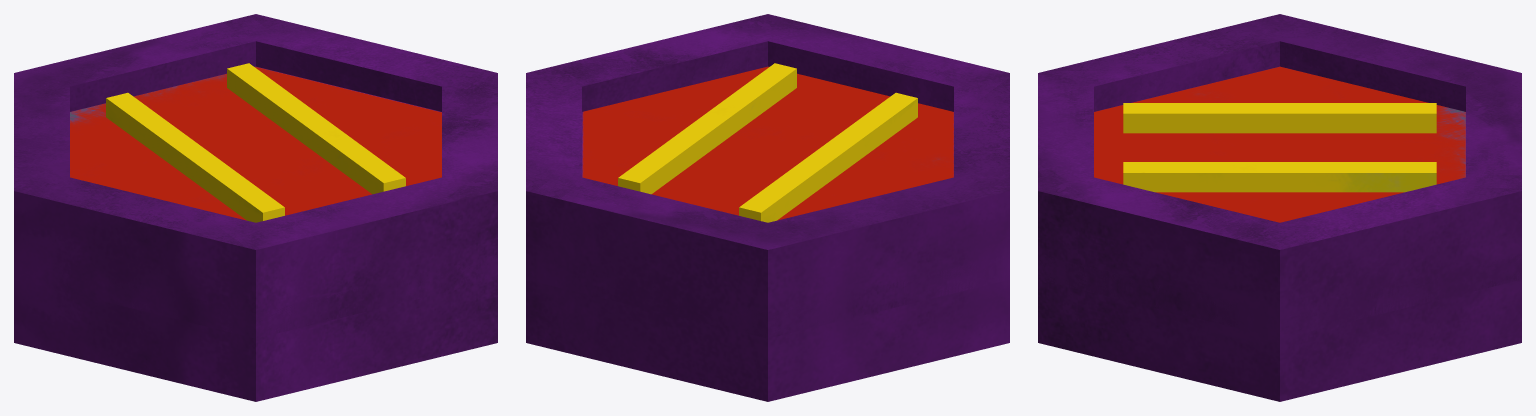
File: BugWallAskJosse.FBX
The picture shows the model from 3 angles, left to right: view 1: azimuth 30°, elevation 25°; view 2: azimuth 150°, elevation 25°; view 3: azimuth 270°, elevation 25°; orthographic projection.
Visible parts, largest first — view 1: Cylinder021; view 2: Cylinder021; view 3: Cylinder021.
Boxes of the visible parts, x1,y1,x2,y2 form: Cylinder021: (14, 14, 497, 401); Cylinder021: (526, 14, 1009, 401); Cylinder021: (1038, 14, 1521, 401).
Bounding box in the file's own units: 20 × 17.32 × 6.
